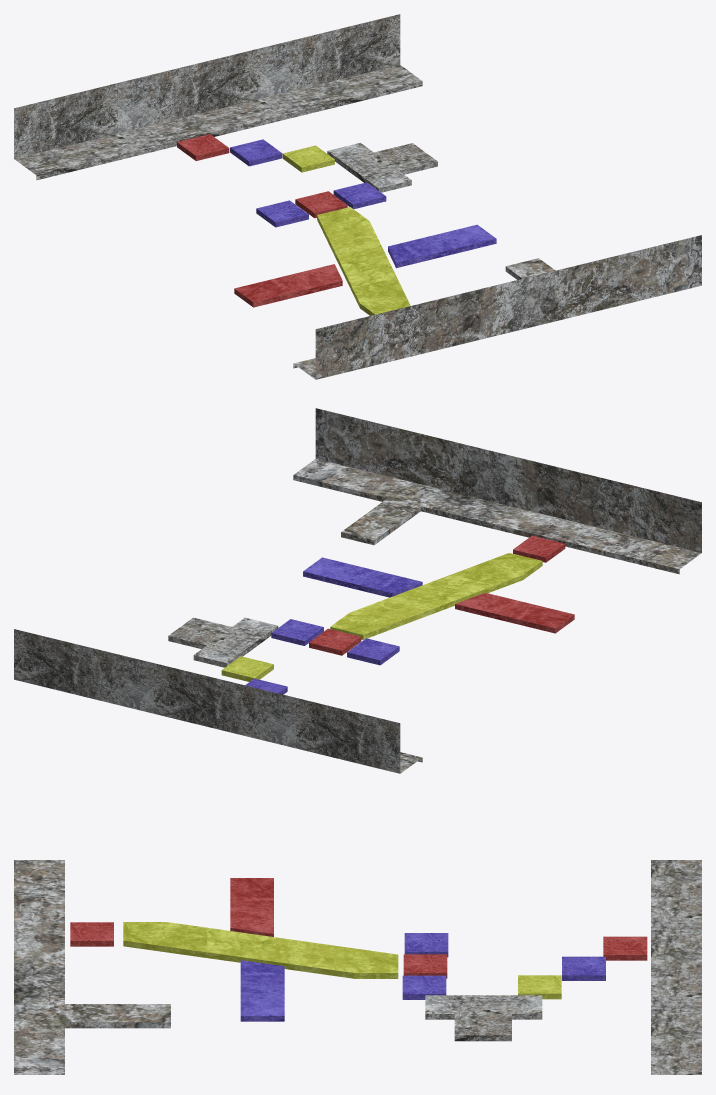
3 renders of one model, top to bottom at view 1: azimuth 30°, elevation 25°; view 2: azimuth 150°, elevation 25°; view 3: azimuth 270°, elevation 25°, orthographic. The views are drawn at different scales.
Parts seen in each view (by area): view 1: Plane_001; view 2: Plane_001; view 3: Plane_001.
Part boxes in pixels (x1,y1,x2,y2): Plane_001: [14, 14, 701, 379]; Plane_001: [14, 408, 701, 773]; Plane_001: [14, 860, 701, 1074].
Bounding box in the file's own units: 39.9 × 54 × 5.5.
Materials: 4 (4 with a texture image).
